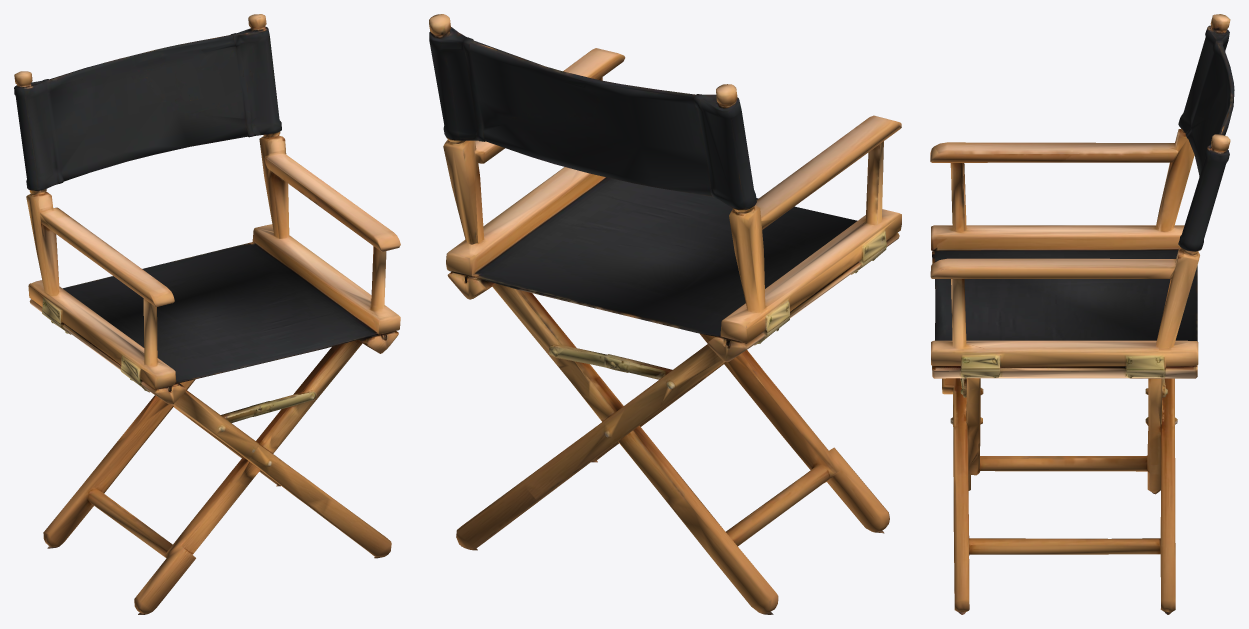
Rendered from director_chair.glb.
3 renders of one model, left to right at view 1: azimuth 30°, elevation 25°; view 2: azimuth 150°, elevation 25°; view 3: azimuth 270°, elevation 25°, orthographic. The views are drawn at different scales.
Visible parts, largest first — view 1: node_0; view 2: node_0; view 3: node_0.
Part boxes in pixels (bbox=[...]): node_0: bbox=[14, 14, 400, 614]; node_0: bbox=[429, 14, 901, 614]; node_0: bbox=[930, 14, 1234, 614].
Bounding box in the file's own units: 0.5552 × 0.9495 × 0.5498.
Materials: 1 (1 with a texture image).
